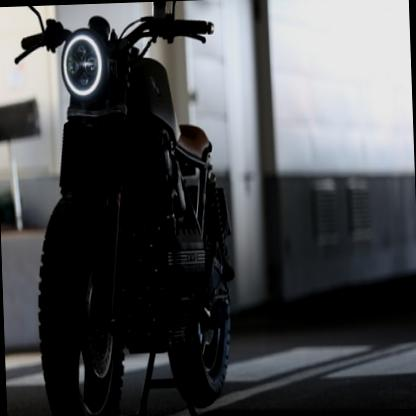motorcycle: (11, 0, 238, 415)
